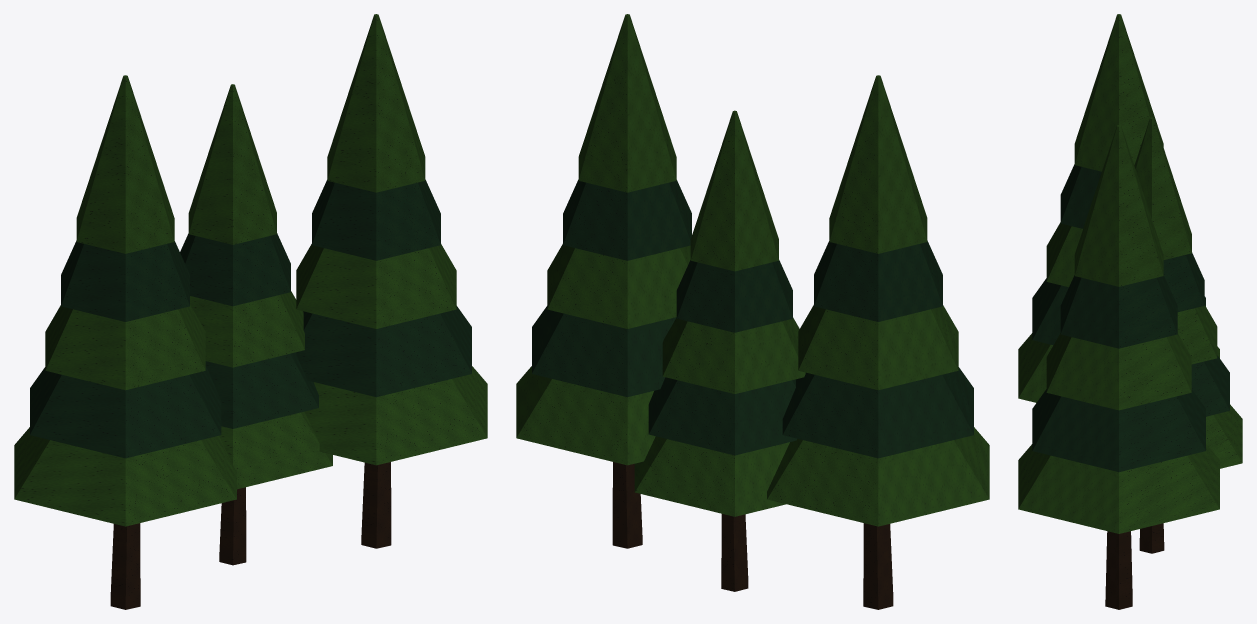
Rendered from PROP-97E77F35FC57_lod2.glb.
3 views of the same model, side by side, from view 1: azimuth 30°, elevation 25°; view 2: azimuth 150°, elevation 25°; view 3: azimuth 270°, elevation 25° (orthographic). The views are drawn at different scales.
Parts seen in each view (by area): view 1: layered_conifer_crown.014, layered_conifer_crown.015, trunk.008; view 2: layered_conifer_crown.014, layered_conifer_crown.015, trunk.008; view 3: layered_conifer_crown.014, layered_conifer_crown.015, trunk.008.
Boxes of the visible parts, <box> form: layered_conifer_crown.014: <box>14,14,487,526</box>; layered_conifer_crown.015: <box>30,179,471,458</box>; trunk.008: <box>110,462,391,609</box>; layered_conifer_crown.014: <box>516,14,989,526</box>; layered_conifer_crown.015: <box>532,179,973,458</box>; trunk.008: <box>612,462,893,609</box>; layered_conifer_crown.014: <box>1018,14,1242,533</box>; layered_conifer_crown.015: <box>1032,164,1229,472</box>; trunk.008: <box>1105,523,1164,609</box>.
Size of the model in its own units: 7.55 by 8.03 by 3.42.
3 materials, 3 textured.
